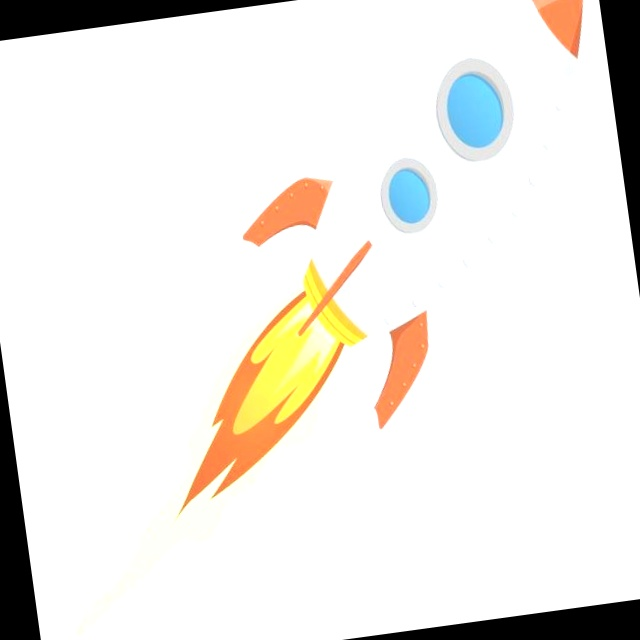medium_debris: (162, 298, 360, 503)
